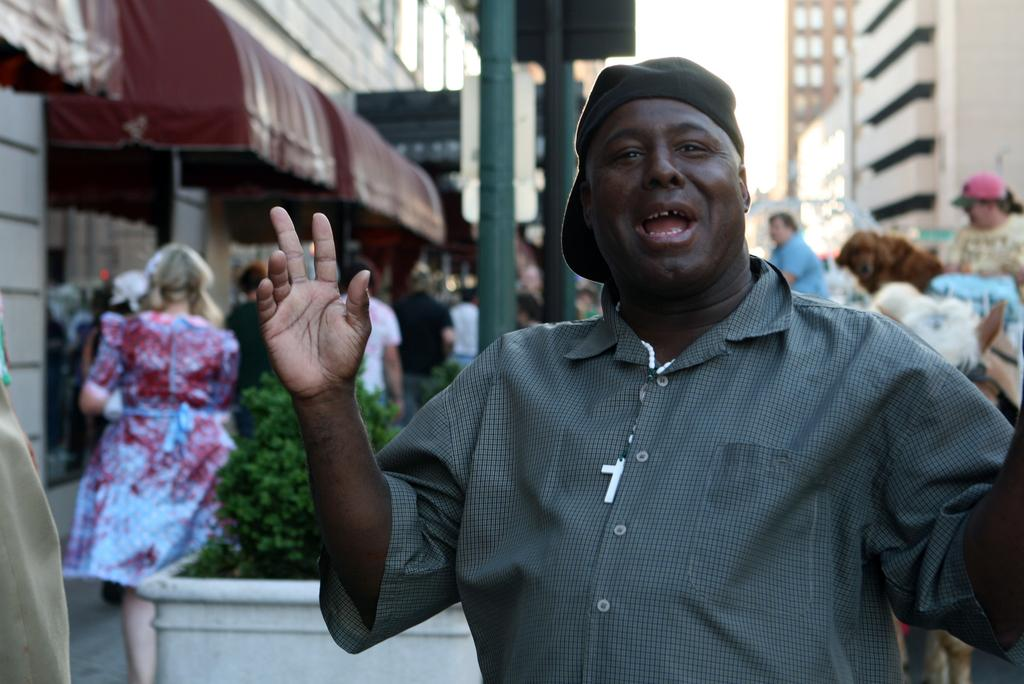Hat: (560, 31, 777, 247), (948, 169, 1012, 214)
